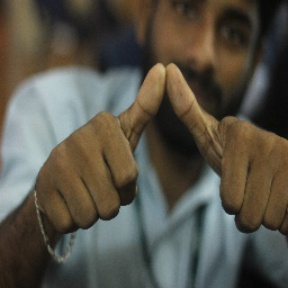A: (86, 59, 259, 215)
